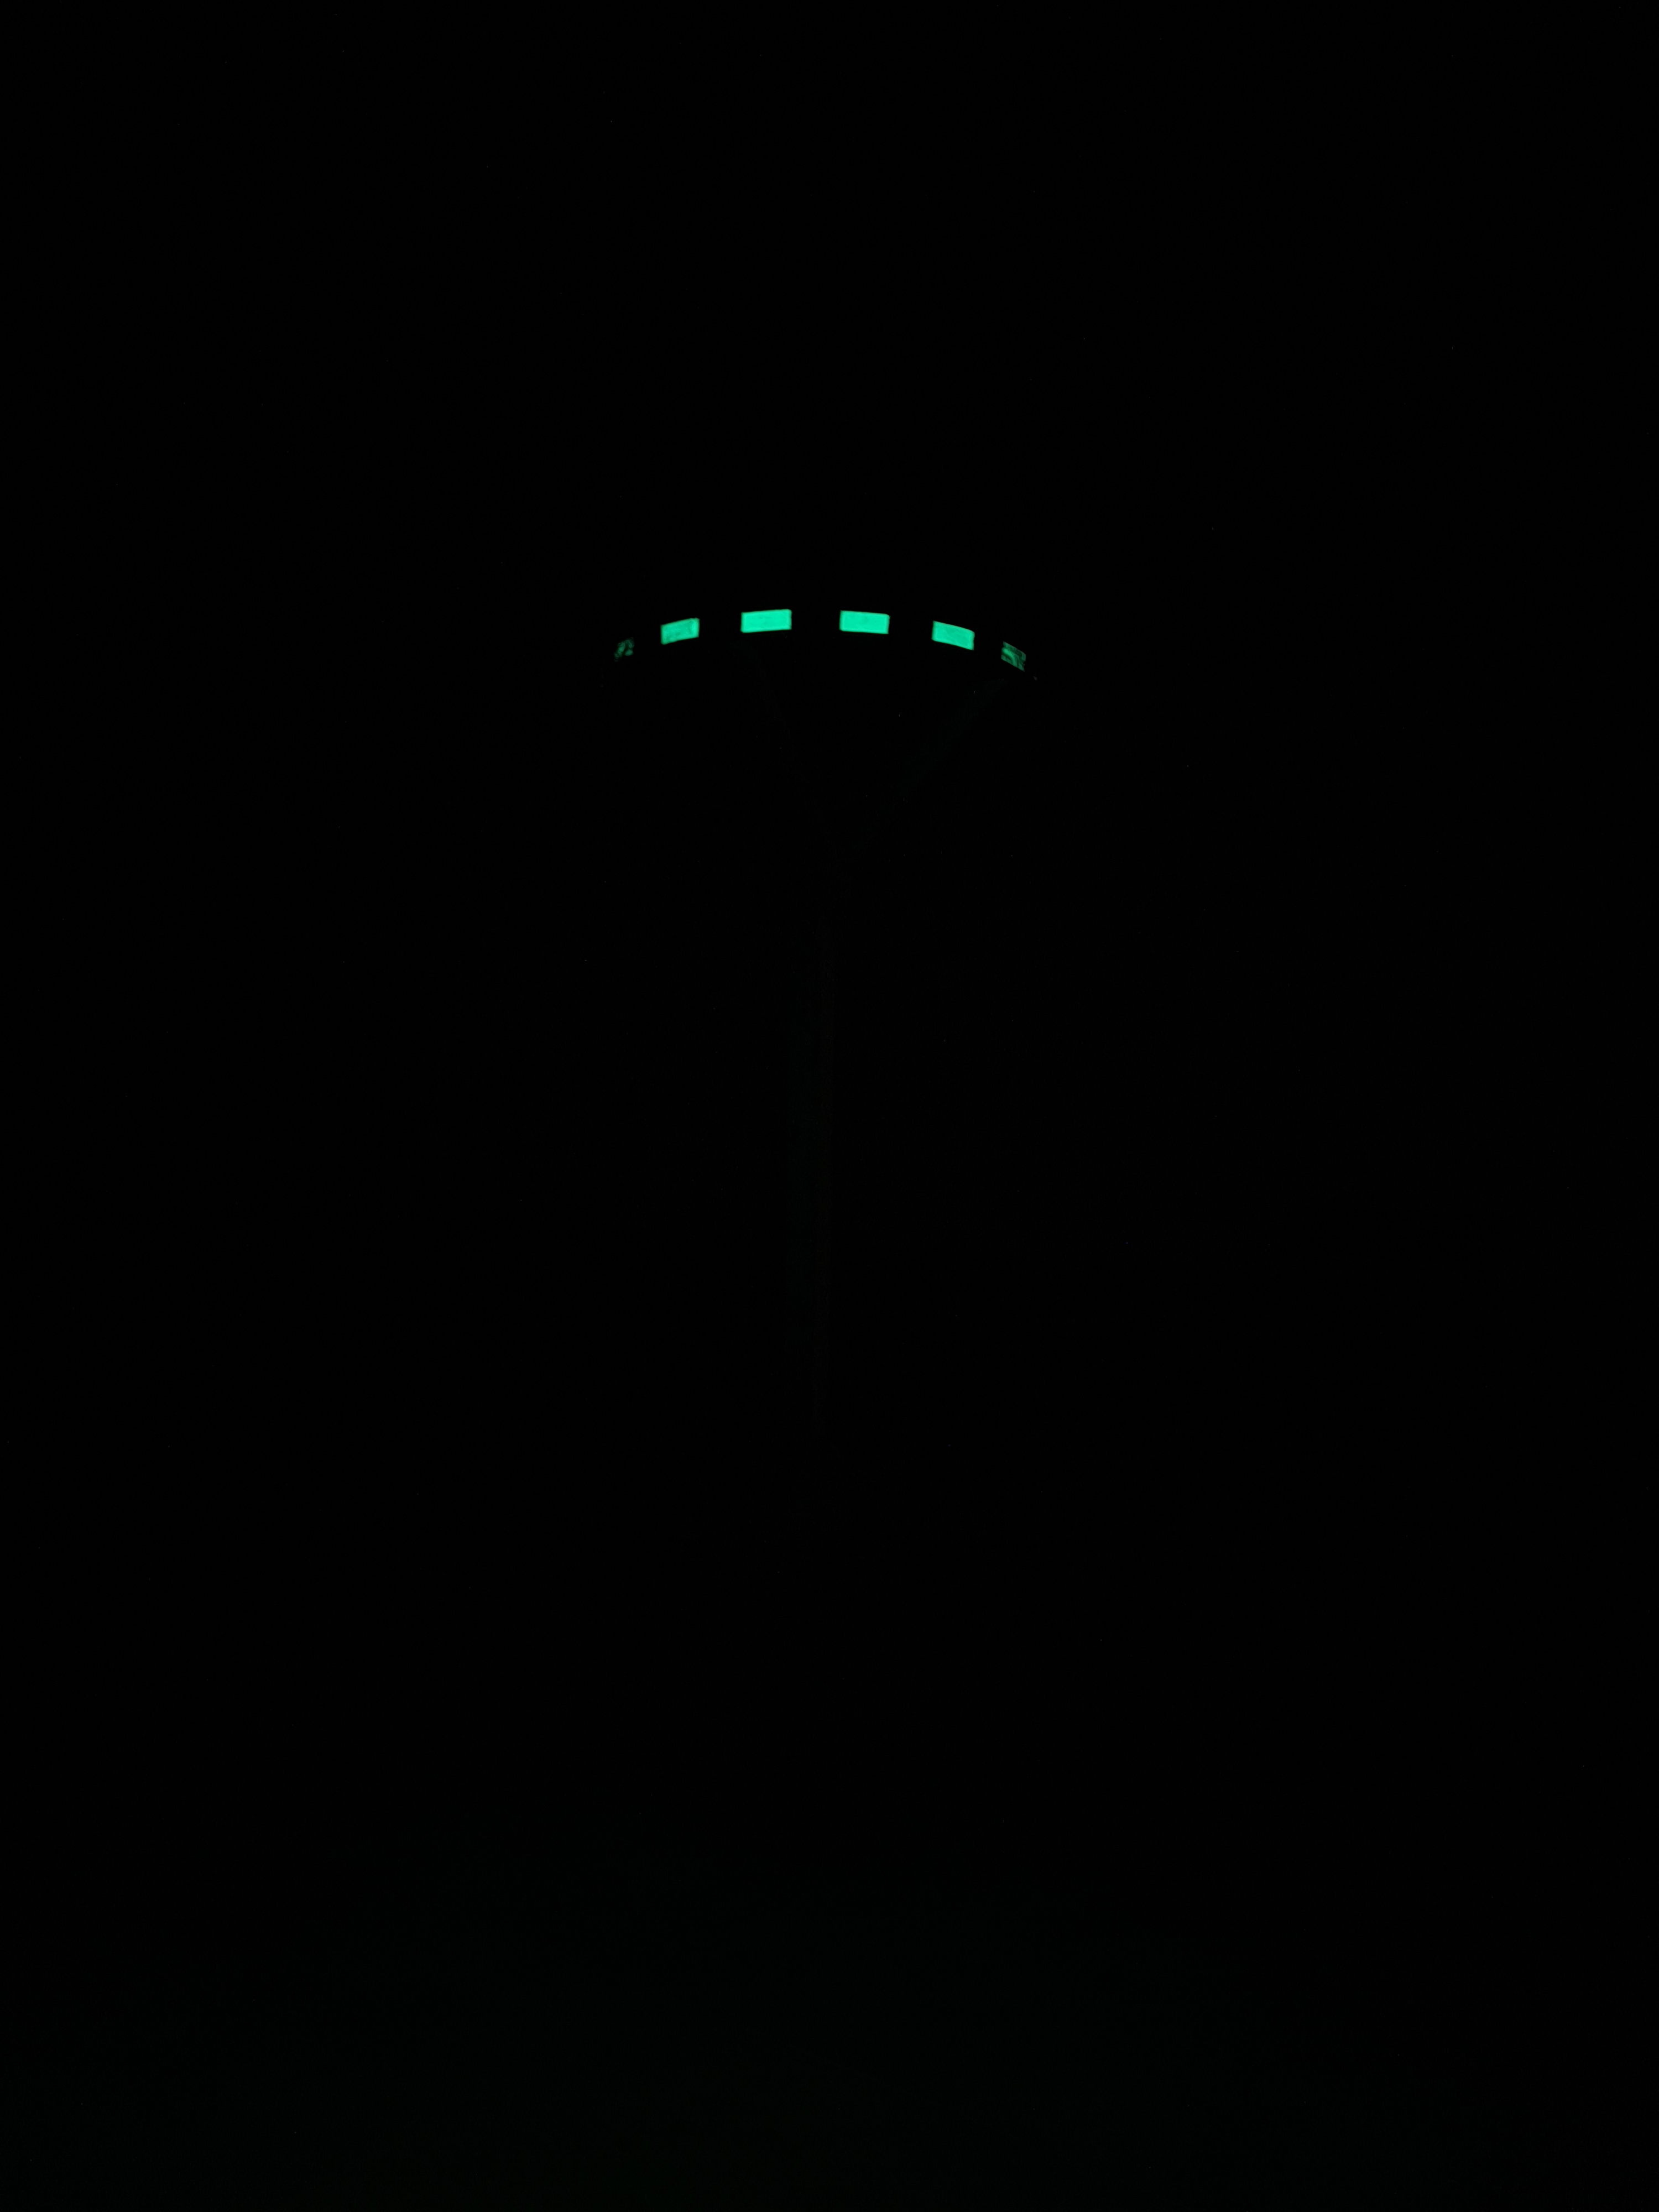hoop: (613, 604, 1028, 676)
